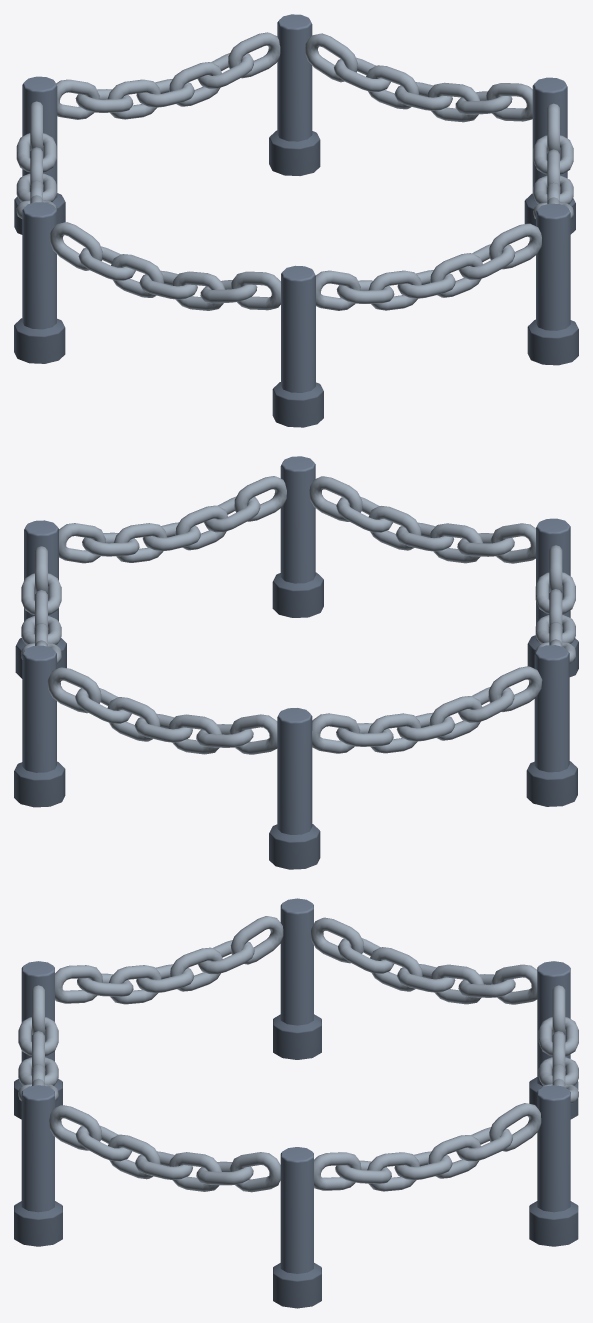
Rendered from Hexa_Locked.fbx.
3 views of the same model, one above another, from view 1: azimuth 30°, elevation 25°; view 2: azimuth 150°, elevation 25°; view 3: azimuth 270°, elevation 25° (orthographic).
Parts seen in each view (by area): view 1: Hexa_Locked; view 2: Hexa_Locked; view 3: Hexa_Locked.
Part boxes in pixels (bbox=[...]): Hexa_Locked: bbox=[14, 14, 578, 427]; Hexa_Locked: bbox=[14, 456, 578, 869]; Hexa_Locked: bbox=[14, 898, 578, 1308].
Size of the model in its own units: 3.57 by 0.8884 by 3.16.
1 material, 1 textured.
